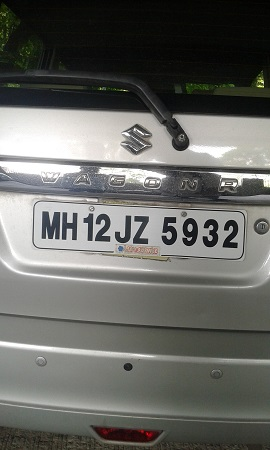licenseplate: (30, 196, 254, 263)
